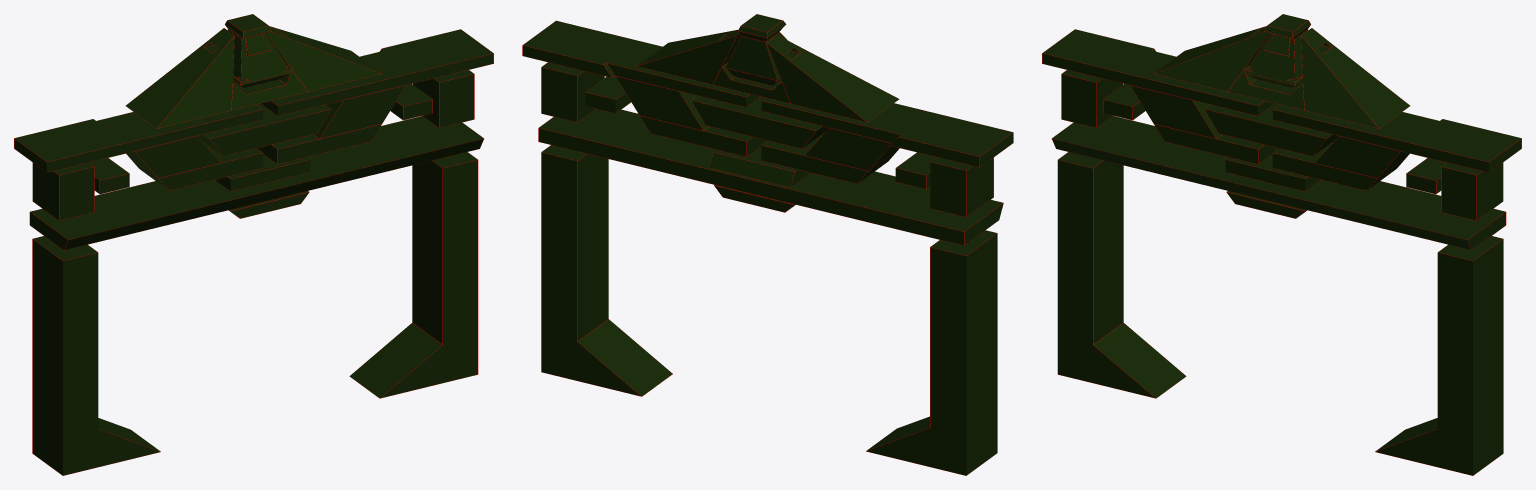
3 renders of one model, left to right at view 1: azimuth 30°, elevation 25°; view 2: azimuth 150°, elevation 25°; view 3: azimuth 330°, elevation 25°, orthographic. The views are drawn at different scales.
Parts seen in each view (by area): view 1: Recognizer_0; view 2: Recognizer_0; view 3: Recognizer_0.
Boxes of the visible parts, left/top/right/bottom form: Recognizer_0: left=14, top=14, right=493, bottom=475; Recognizer_0: left=522, top=14, right=1013, bottom=475; Recognizer_0: left=1042, top=14, right=1521, bottom=475.
Bounding box in the file's own units: 37.95 × 31.32 × 5.87.
